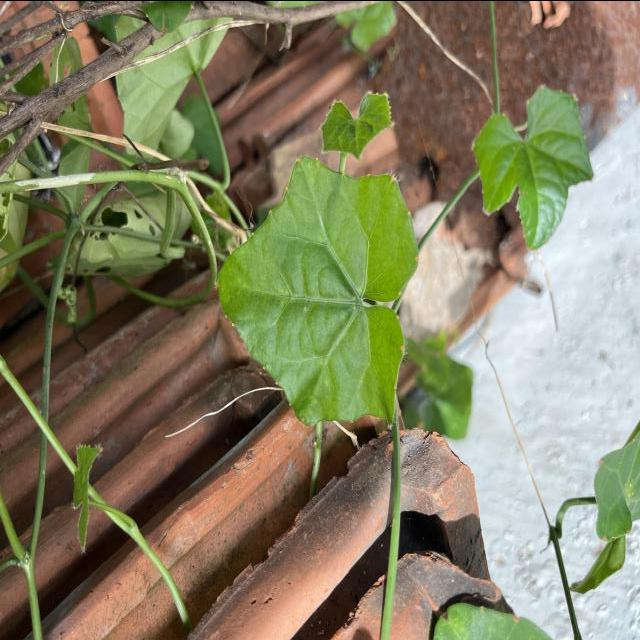Coccinia grandis: (213, 153, 421, 428)
